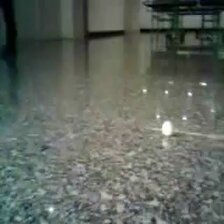w: (161, 120, 174, 136)
